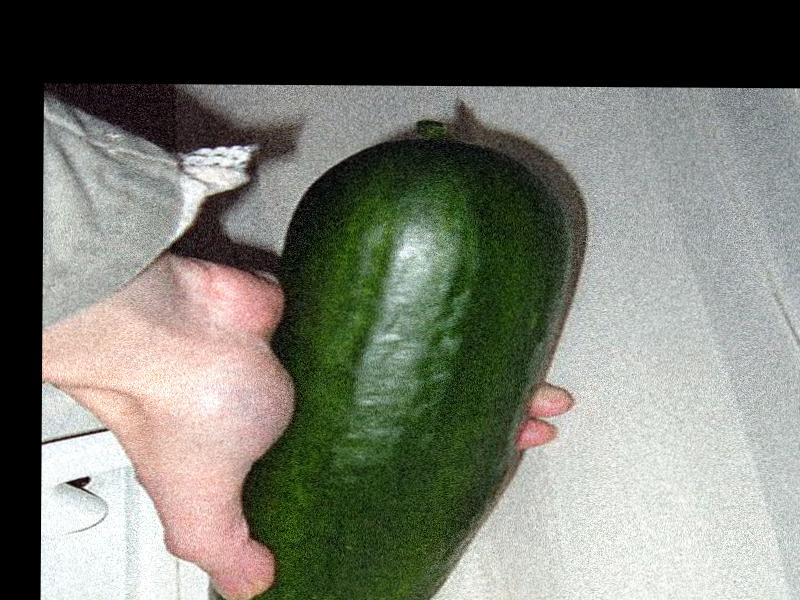Cucumber: (211, 117, 585, 600)
